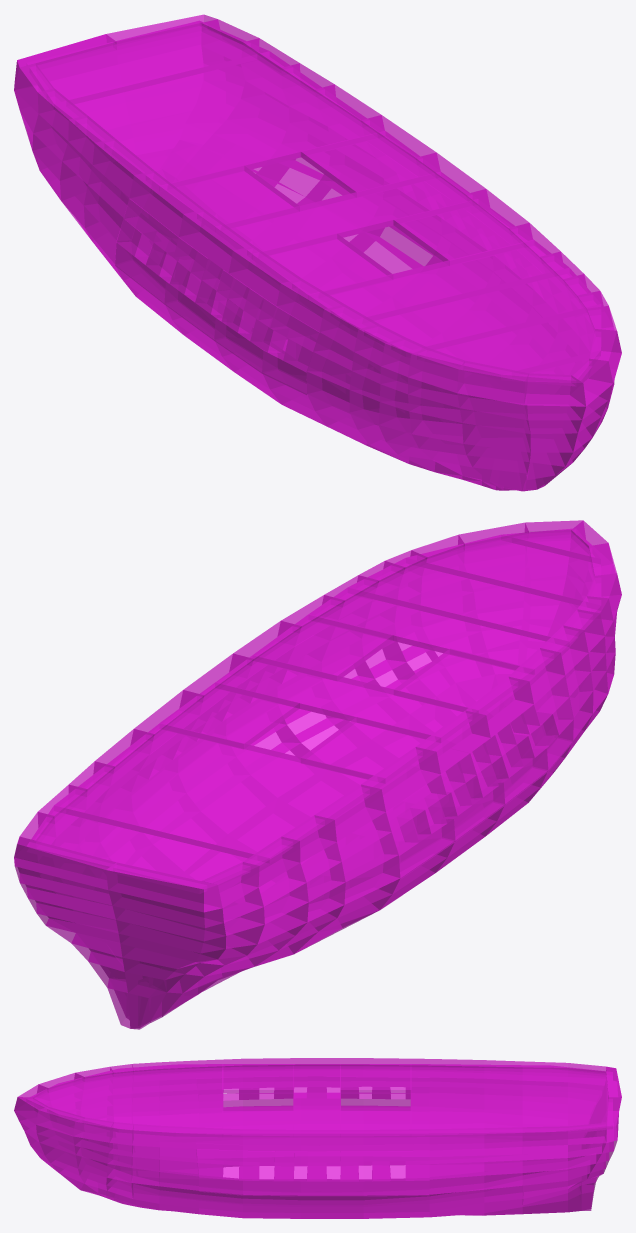
Rendered from SM_Veh_Ship_L_Hull_02_Collision.fbx.
The picture shows the model from 3 angles, top to bottom: view 1: azimuth 30°, elevation 25°; view 2: azimuth 150°, elevation 25°; view 3: azimuth 270°, elevation 25°; orthographic projection. The views are drawn at different scales.
Visible parts, largest first — view 1: SM_Veh_Ship_L_Hull_02_Collision; view 2: SM_Veh_Ship_L_Hull_02_Collision; view 3: SM_Veh_Ship_L_Hull_02_Collision.
Part boxes in pixels (x1=…): SM_Veh_Ship_L_Hull_02_Collision: x1=14, y1=14, x2=621, y2=491; SM_Veh_Ship_L_Hull_02_Collision: x1=14, y1=520, x2=621, y2=1029; SM_Veh_Ship_L_Hull_02_Collision: x1=14, y1=1058, x2=621, y2=1218.
Size of the model in its own units: 1280 by 771 by 3656.
